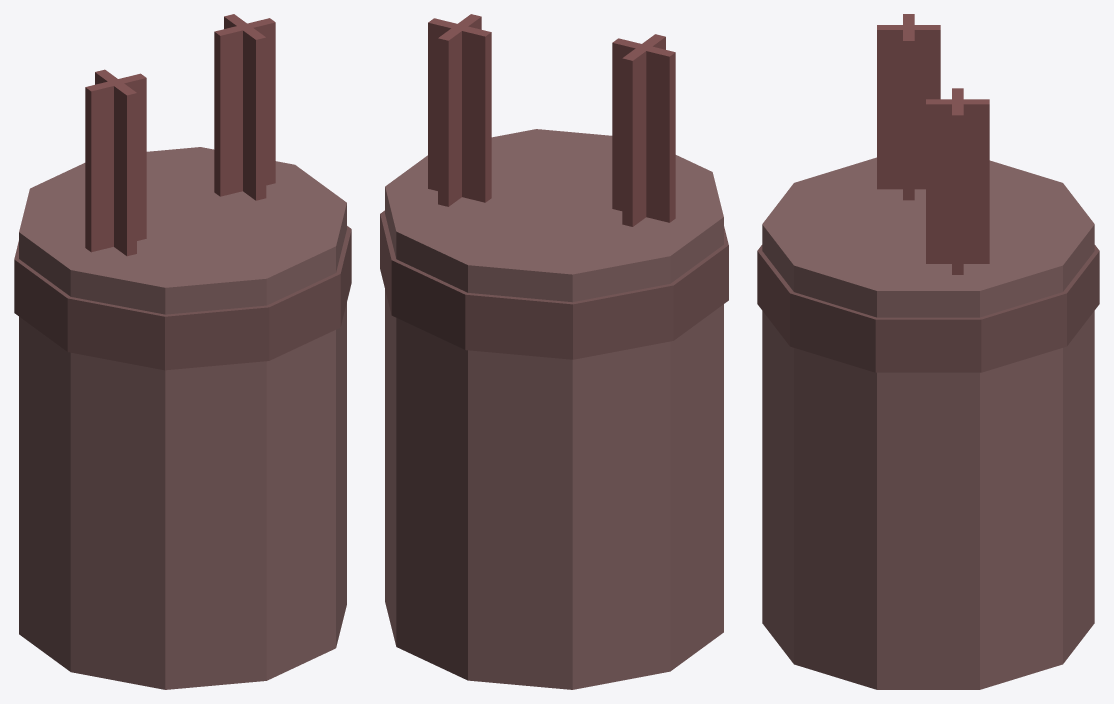
File: ce_ammo2_spiker_bio_b.obj
3 renders of one model, left to right at view 1: azimuth 30°, elevation 25°; view 2: azimuth 150°, elevation 25°; view 3: azimuth 270°, elevation 25°, orthographic. The views are drawn at different scales.
Parts seen in each view (by area): view 1: ce_ammo2_spiker_bio_b_0, ce_ammo2_spiker_bio_b_1, ce_ammo2_spiker_bio_b_4, ce_ammo2_spiker_bio_b_2, ce_ammo2_spiker_bio_b_5, ce_ammo2_spiker_bio_b_3; view 2: ce_ammo2_spiker_bio_b_0, ce_ammo2_spiker_bio_b_1, ce_ammo2_spiker_bio_b_2, ce_ammo2_spiker_bio_b_4, ce_ammo2_spiker_bio_b_3, ce_ammo2_spiker_bio_b_5; view 3: ce_ammo2_spiker_bio_b_0, ce_ammo2_spiker_bio_b_1, ce_ammo2_spiker_bio_b_5, ce_ammo2_spiker_bio_b_3, ce_ammo2_spiker_bio_b_4, ce_ammo2_spiker_bio_b_2.
Part boxes in pixels (x1=…): ce_ammo2_spiker_bio_b_0: x1=19, y1=147, x2=346, y2=689; ce_ammo2_spiker_bio_b_1: x1=14, y1=226, x2=351, y2=370; ce_ammo2_spiker_bio_b_4: x1=214, y1=18, x2=275, y2=196; ce_ammo2_spiker_bio_b_2: x1=85, y1=73, x2=146, y2=252; ce_ammo2_spiker_bio_b_5: x1=224, y1=14, x2=266, y2=200; ce_ammo2_spiker_bio_b_3: x1=95, y1=69, x2=136, y2=256; ce_ammo2_spiker_bio_b_0: x1=385, y1=129, x2=723, y2=689; ce_ammo2_spiker_bio_b_1: x1=380, y1=210, x2=728, y2=359; ce_ammo2_spiker_bio_b_2: x1=612, y1=38, x2=675, y2=222; ce_ammo2_spiker_bio_b_4: x1=428, y1=18, x2=491, y2=202; ce_ammo2_spiker_bio_b_3: x1=622, y1=34, x2=665, y2=226; ce_ammo2_spiker_bio_b_5: x1=438, y1=14, x2=481, y2=206; ce_ammo2_spiker_bio_b_0: x1=762, y1=157, x2=1094, y2=689; ce_ammo2_spiker_bio_b_1: x1=757, y1=245, x2=1099, y2=372; ce_ammo2_spiker_bio_b_5: x1=926, y1=99, x2=989, y2=263; ce_ammo2_spiker_bio_b_3: x1=877, y1=25, x2=940, y2=189; ce_ammo2_spiker_bio_b_4: x1=952, y1=88, x2=963, y2=274; ce_ammo2_spiker_bio_b_2: x1=903, y1=14, x2=914, y2=200.
Bounding box in the file's own units: 0.3328 × 0.63 × 0.35.
